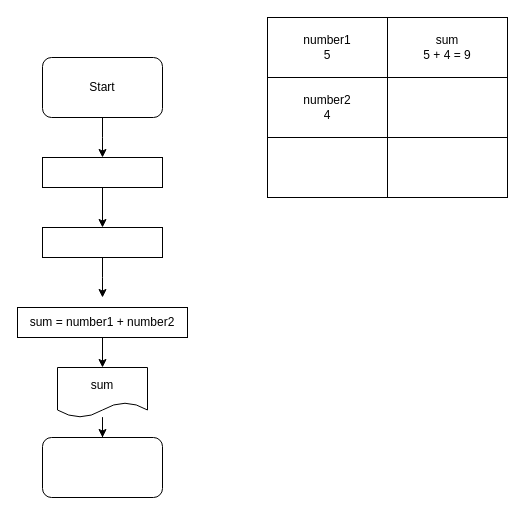
This 525x515 diagram has some shape labels left out. The box of each missing label's shape, as (x1, y1, x2, y2) in pixels:
End: (42, 436, 162, 498)
number1 = 5: (42, 156, 162, 188)
number2 = 4: (42, 226, 162, 258)
